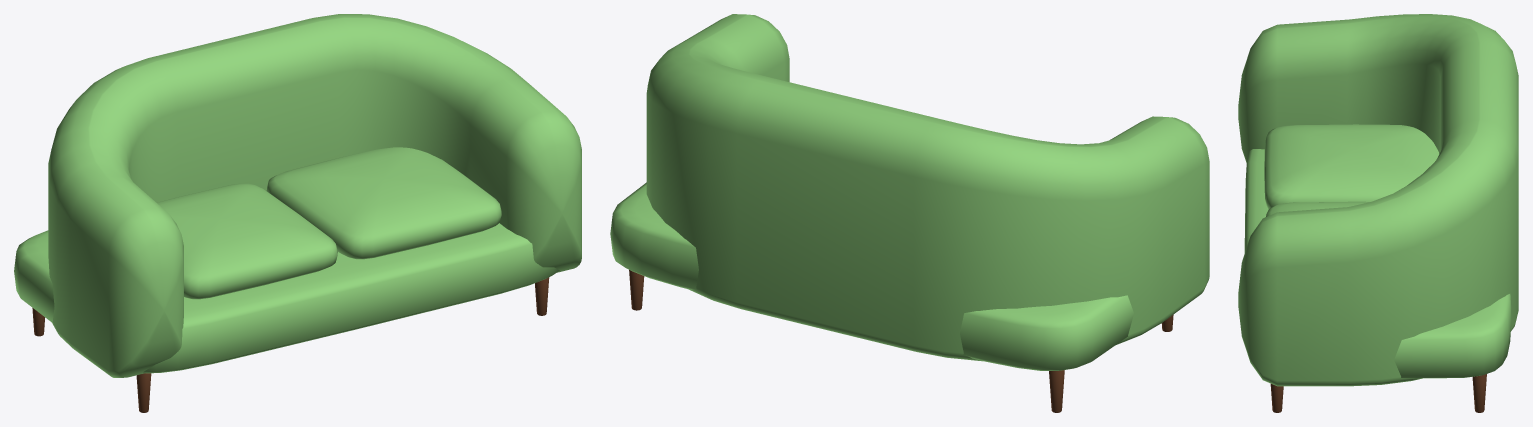
File: namoradeira_concha_verde_claro.glb
3 views of the same model, side by side, from view 1: azimuth 30°, elevation 25°; view 2: azimuth 150°, elevation 25°; view 3: azimuth 270°, elevation 25° (orthographic). The views are drawn at different scales.
Visible parts, largest first — view 1: namoradeira_concha_verde_claro; view 2: namoradeira_concha_verde_claro; view 3: namoradeira_concha_verde_claro.
Part boxes in pixels (bbox=[...]): namoradeira_concha_verde_claro: bbox=[14, 14, 581, 412]; namoradeira_concha_verde_claro: bbox=[610, 14, 1209, 412]; namoradeira_concha_verde_claro: bbox=[1238, 14, 1518, 412].
Bounding box in the file's own units: 1.6 × 0.8 × 0.8596.
1 material, 1 textured.
